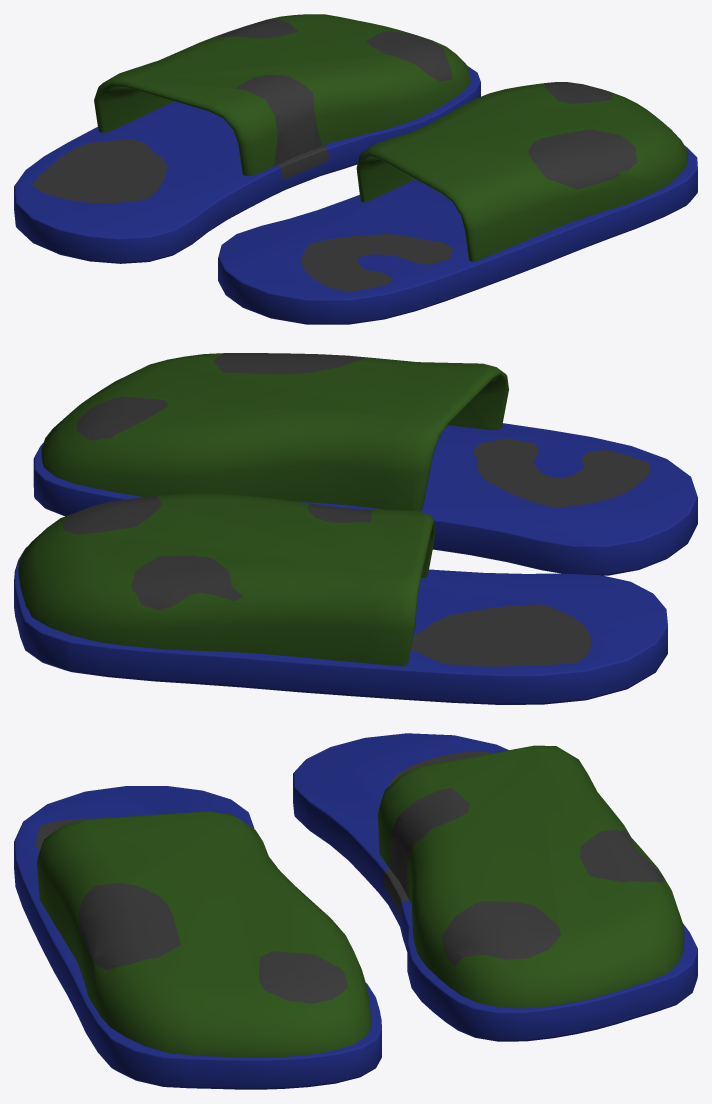
File: Slippers.fbx
3 views of the same model, one above another, from view 1: azimuth 30°, elevation 25°; view 2: azimuth 150°, elevation 25°; view 3: azimuth 270°, elevation 25° (orthographic). The views are drawn at different scales.
Visible parts, largest first — view 1: Plane.002; view 2: Plane.002; view 3: Plane.002.
Part boxes in pixels (box(x1,y1,x2,y2)): Plane.002: box(14, 14, 697, 324); Plane.002: box(14, 353, 697, 704); Plane.002: box(14, 733, 697, 1089).
Size of the model in its own units: 1247 by 189 by 1102.
